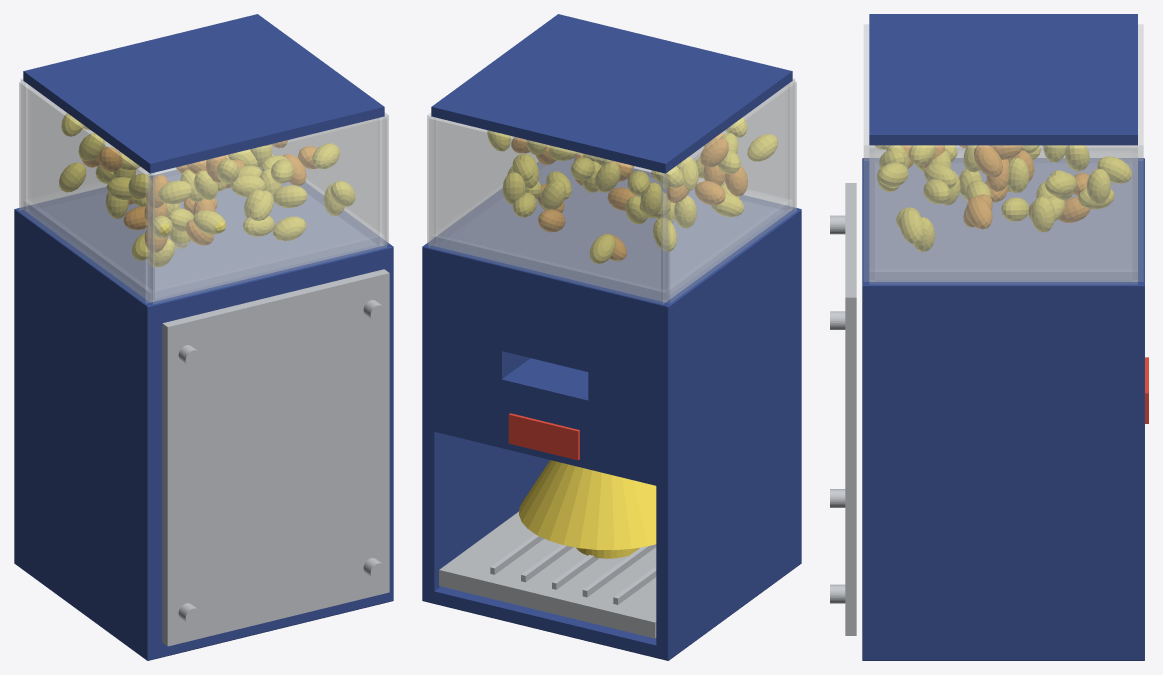
File: oreilles.glb
3 renders of one model, left to right at view 1: azimuth 30°, elevation 25°; view 2: azimuth 150°, elevation 25°; view 3: azimuth 270°, elevation 25°, orthographic. The views are drawn at different scales.
Parts seen in each view (by area): view 1: Main_Box, Bracket, Res_Top, Res_Back, Res_L, Res_Bottom, Res_R, Res_Front, Plug_57, Plug_49, Plug_15, Plug_11 (+3 smaller); view 2: Main_Box, Res_Top, Res_Front, Res_Bottom, Res_L, Tray, Cone_Dispenser, Res_R, Res_Back, Label_Red, Tray_Rib_-0.02, Plug_03 (+10 smaller); view 3: Main_Box, Res_R, Res_Top, Res_Bottom, Bracket, Res_Back, Res_Front, Plug_33, Plug_58, Plug_47, Plug_39, Plug_30 (+9 smaller).
Boxes of the visible parts, box(x1,y1,x2,y2) form: Main_Box: box(14, 168, 393, 660); Bracket: box(162, 269, 389, 646); Res_Top: box(23, 14, 384, 173); Res_Back: box(148, 116, 387, 304); Res_L: box(19, 81, 154, 303); Res_Bottom: box(23, 168, 384, 302); Res_R: box(271, 112, 388, 245); Res_Front: box(20, 78, 145, 210); Plug_57: box(158, 180, 192, 204); Plug_49: box(273, 216, 306, 240); Plug_15: box(193, 210, 226, 234); Plug_11: box(273, 185, 307, 207); Main_Box: box(422, 157, 801, 660); Res_Top: box(431, 14, 792, 173); Res_Front: box(428, 116, 667, 304); Res_Bottom: box(431, 159, 791, 302); Res_L: box(661, 81, 796, 303); Tray: box(439, 511, 656, 638); Cone_Dispenser: box(519, 460, 656, 550); Res_R: box(427, 112, 536, 245); Res_Back: box(689, 78, 795, 210); Label_Red: box(508, 413, 579, 460); Tray_Rib_-0.02: box(582, 544, 656, 597); Plug_03: box(653, 217, 677, 251); Main_Box: box(862, 158, 1144, 660); Res_R: box(869, 145, 1137, 284); Res_Top: box(869, 14, 1137, 145); Res_Bottom: box(869, 163, 1137, 281); Bracket: box(845, 183, 856, 635); Res_Back: box(863, 24, 874, 281); Res_Front: box(1133, 24, 1143, 281); Plug_33: box(973, 145, 1002, 177); Plug_58: box(1031, 196, 1055, 232); Plug_47: box(899, 209, 923, 244); Plug_39: box(1087, 169, 1110, 203); Plug_30: box(966, 196, 992, 229).
Size of the model in its own units: 0.16 by 0.306 by 0.169.
